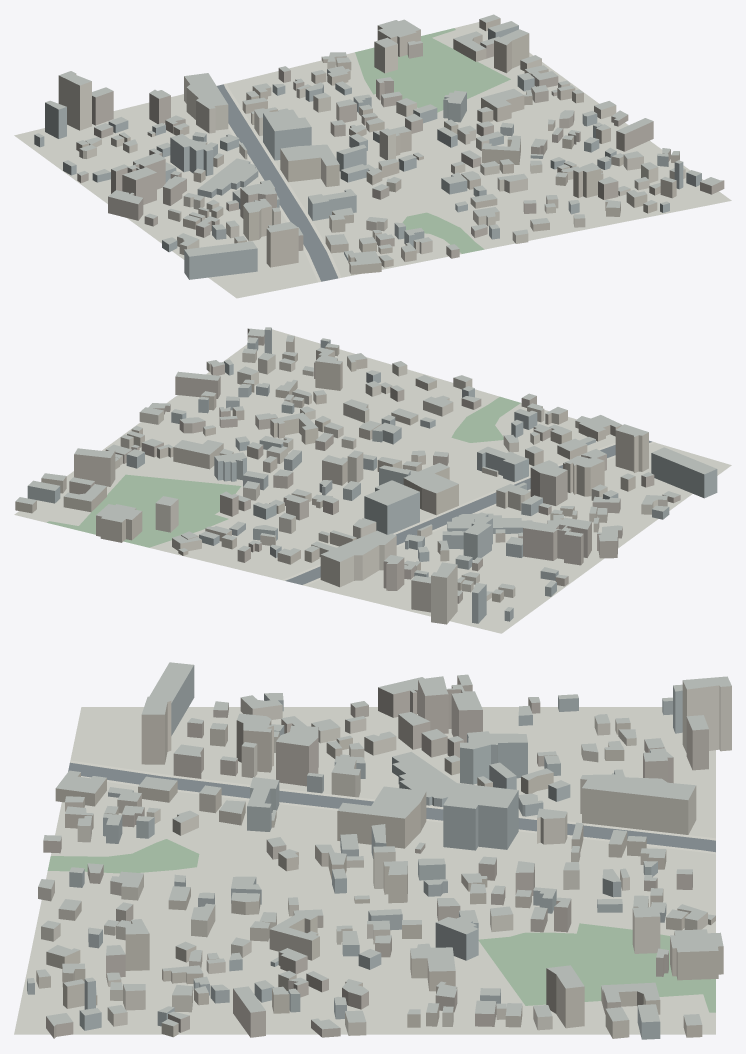
The picture shows the model from 3 angles, top to bottom: view 1: azimuth 30°, elevation 25°; view 2: azimuth 150°, elevation 25°; view 3: azimuth 270°, elevation 25°; orthographic projection. The views are drawn at different scales.
Parts seen in each view (by area): view 1: city; view 2: city; view 3: city.
Boxes of the visible parts, box(x1,y1,x2,y2) form: city: box(14, 14, 731, 298); city: box(14, 327, 731, 633); city: box(14, 662, 731, 1039).
Bounding box in the file's own units: 525 × 45.8 × 463.
